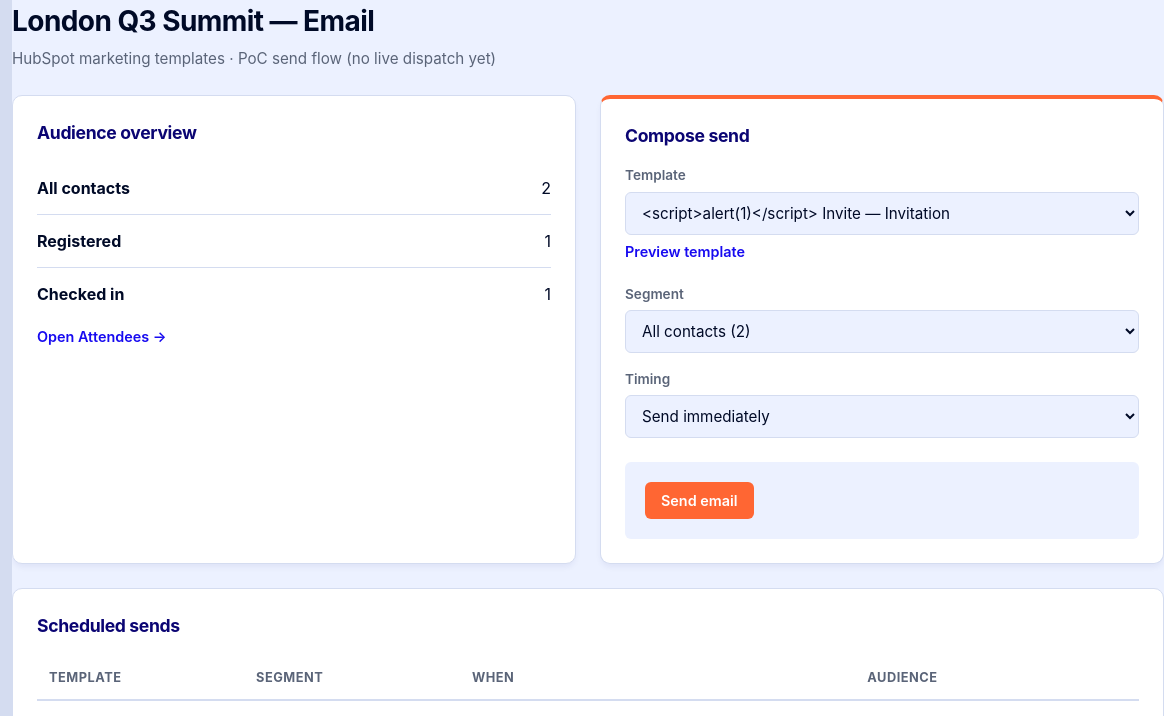
Scenario: EmailView › queues send for registered segment
The width and height of the screenshot is (1164, 716).
expect the button "Send email" is shown: met, box x1=645 y1=482 x2=754 y2=519
Select "Registered (1)" in the dropdown labelled "Segment": [882, 332] box x1=625 y1=310 x2=1139 y2=353
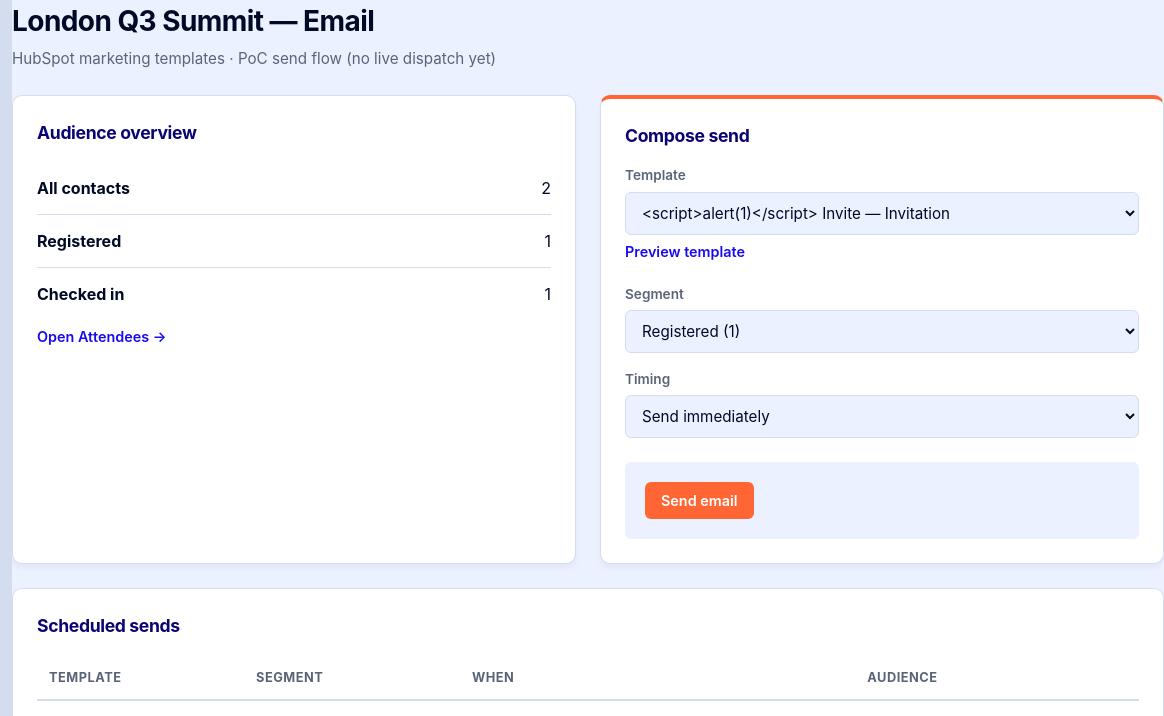
Click the button "Send email": [699, 501] box x1=645 y1=482 x2=754 y2=519
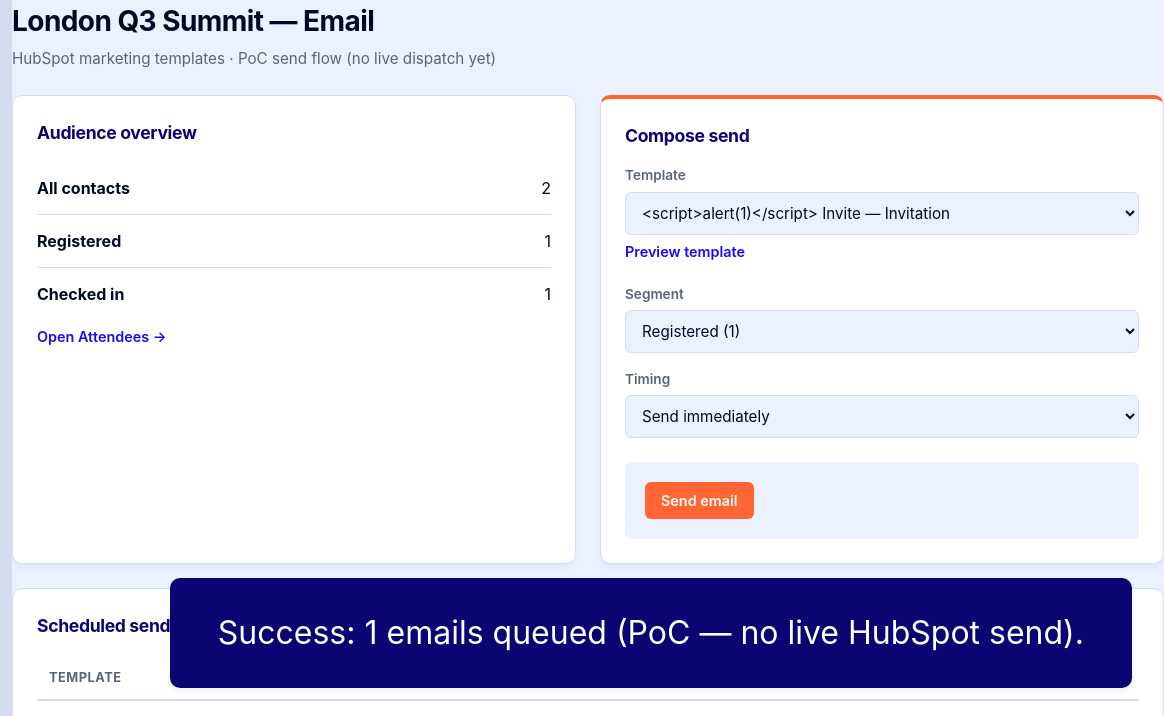
expect the message shows "Success: 1 emails queued": met, box x1=218 y1=613 x2=1084 y2=652
